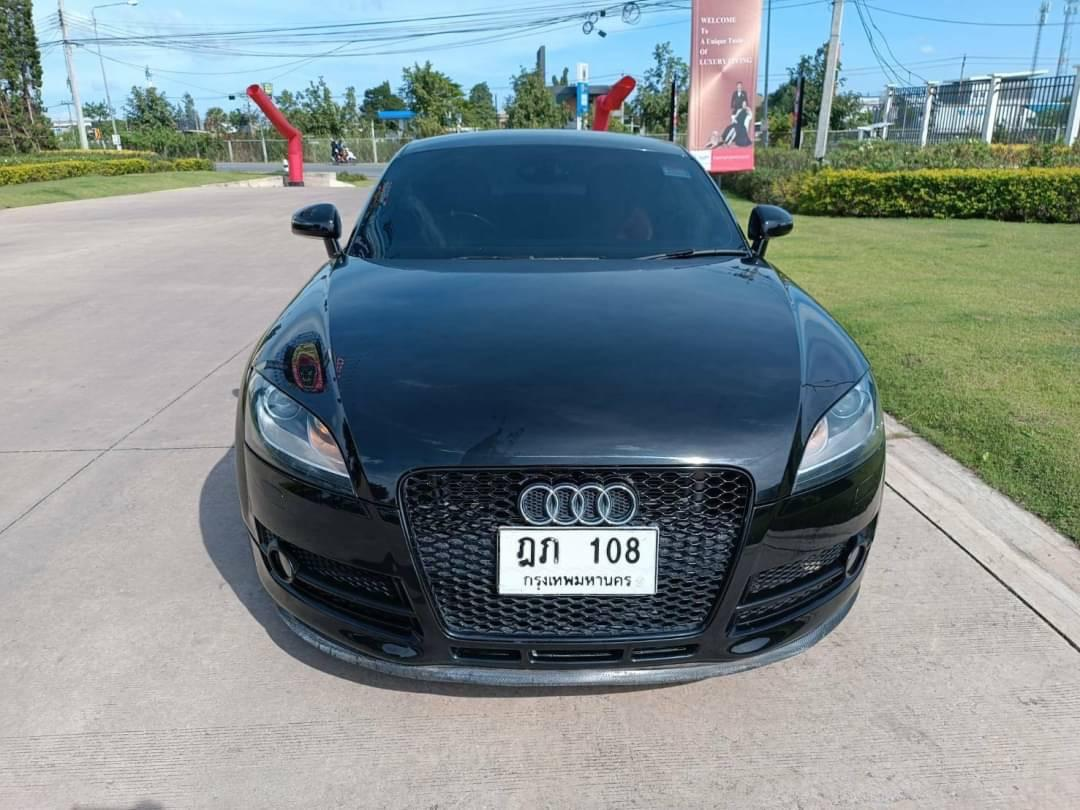license-plate: (495, 525, 660, 597)
